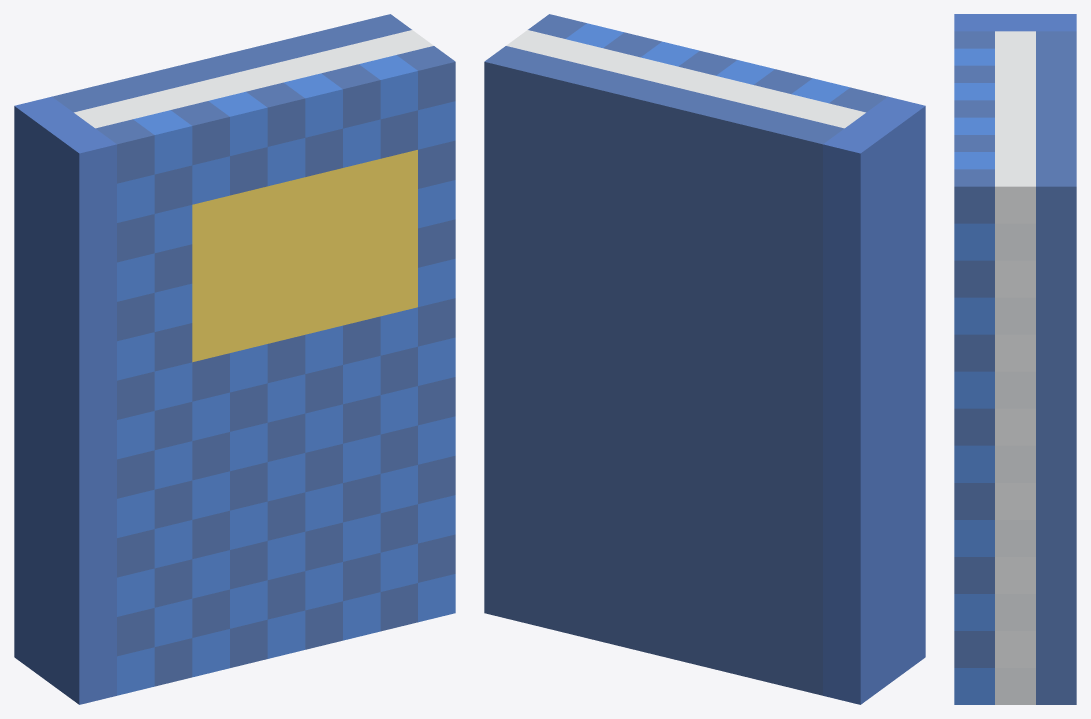
File: tech_book.glb
3 views of the same model, side by side, from view 1: azimuth 30°, elevation 25°; view 2: azimuth 150°, elevation 25°; view 3: azimuth 270°, elevation 25° (orthographic). The views are drawn at different scales.
Bounding box in the file's own units: 1 × 1.4 × 0.3.
